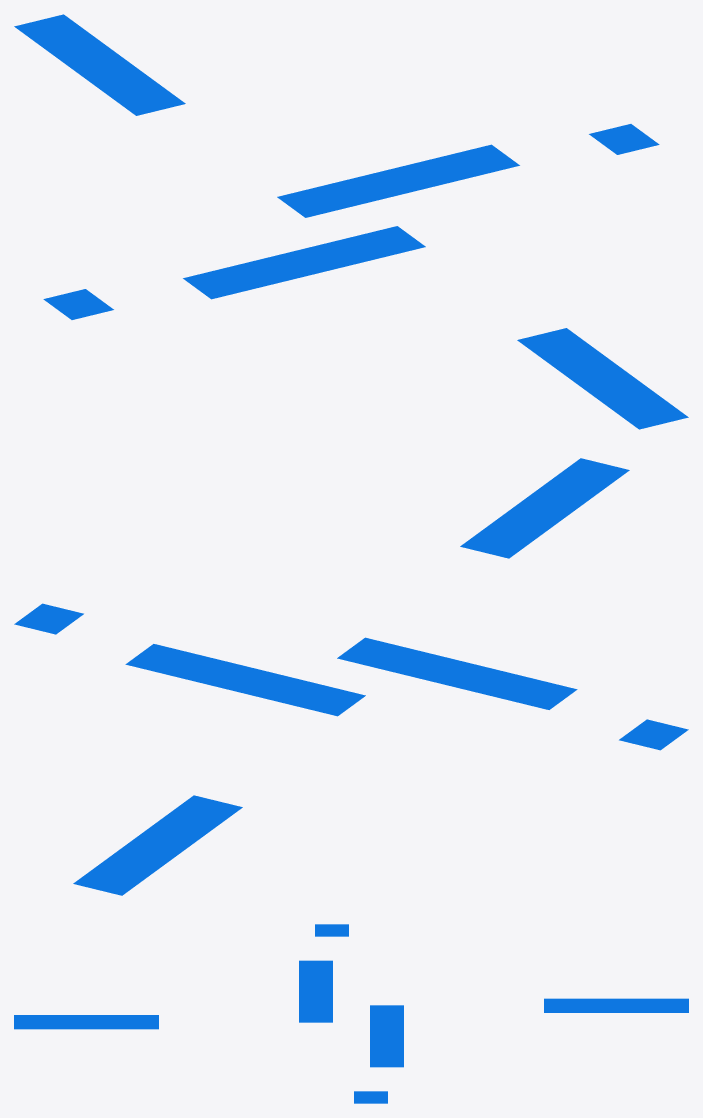
Rendered from Water.fbx.
3 renders of one model, top to bottom at view 1: azimuth 30°, elevation 25°; view 2: azimuth 150°, elevation 25°; view 3: azimuth 270°, elevation 25°, orthographic. The views are drawn at different scales.
Visible parts, largest first — view 1: Water; view 2: Water; view 3: Water.
Boxes of the visible parts, x1,y1,x2,y2 form: Water: [14, 14, 688, 429]; Water: [14, 458, 688, 895]; Water: [14, 924, 688, 1103].
Size of the model in its own units: 2662 by 1.14e-05 by 4229.
